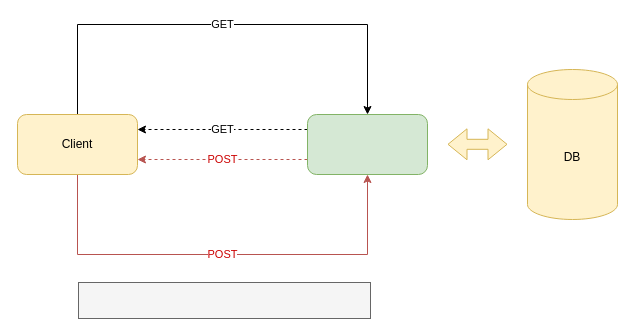
Image size: 635x336. Some labels were removed from this diagram. The shapes that lost their labels are listed below. From the top down, each one's centre as x and y in pixels, then its label:
At [367,144]: "Server".
At [224,300]: "Post - Redirect - Get ( PRG ) pattern".
